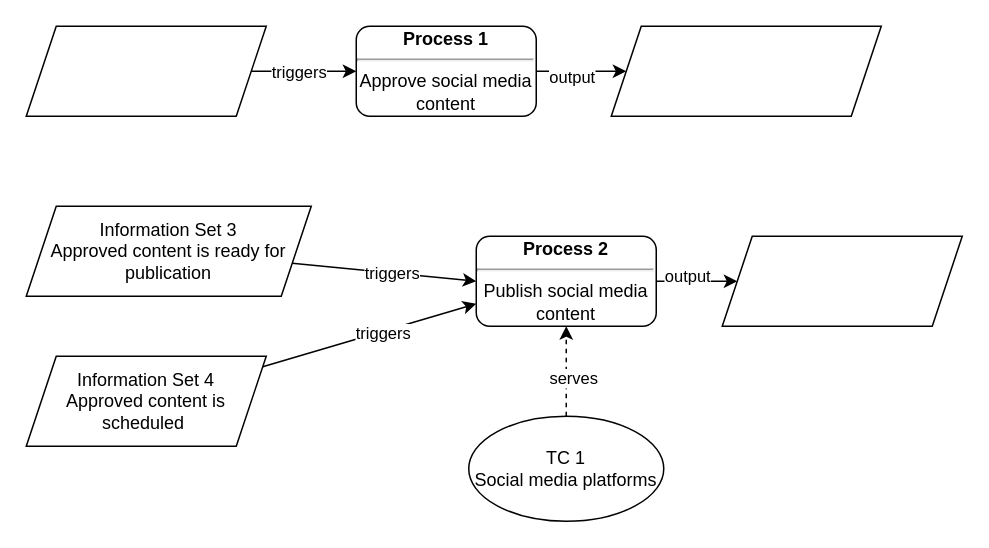
The diagram is 989 pixels wide and 548 high, and some of its shapes have lost their labels. The centre of each missing label's shape, as x and y in pixels:
Information Set 1 Content is submitted for approval: [145,70]
Information Set 2 Approved content is ready for scheduling: [745,70]
Information Set 5 Content is published on social media platforms: [841,280]
